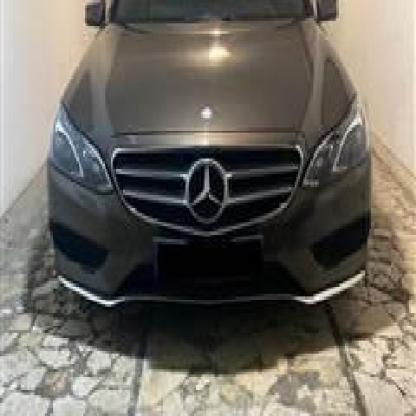Car: (22, 0, 372, 338)
